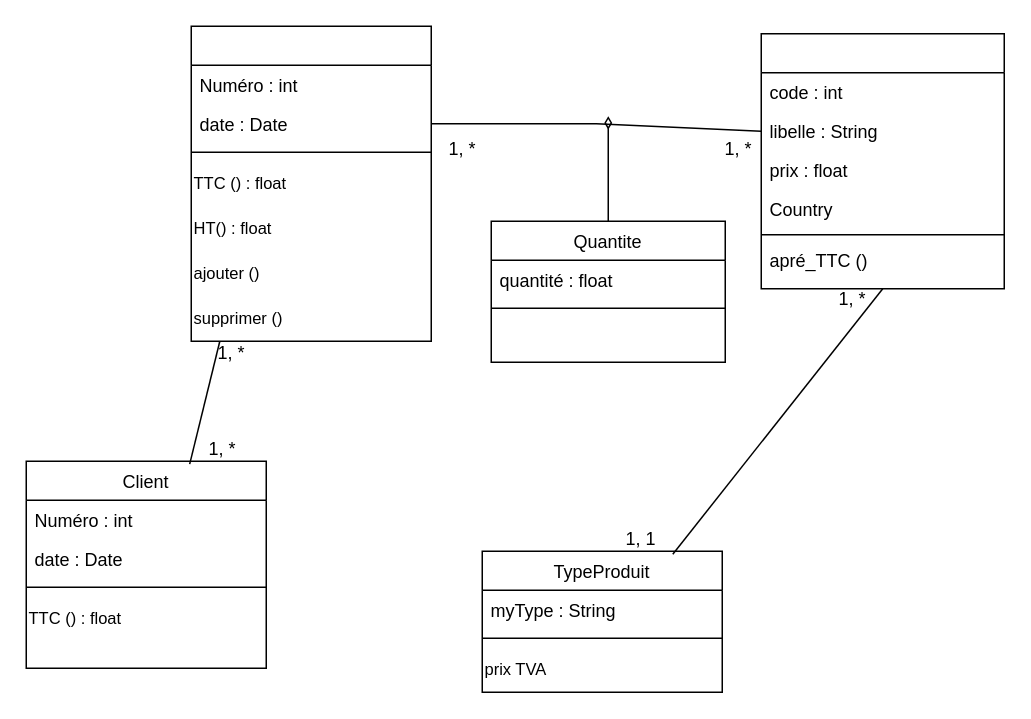
Some shapes in this 1031 by 719 pixel diagram are drawn without their labels. The shapes that lost their labels are listed below. From the top down, each one's box as (x1, y1, x2, y2) in pixels, then its label:
(760, 32, 1004, 289): Produit
(190, 25, 431, 341): Facture
